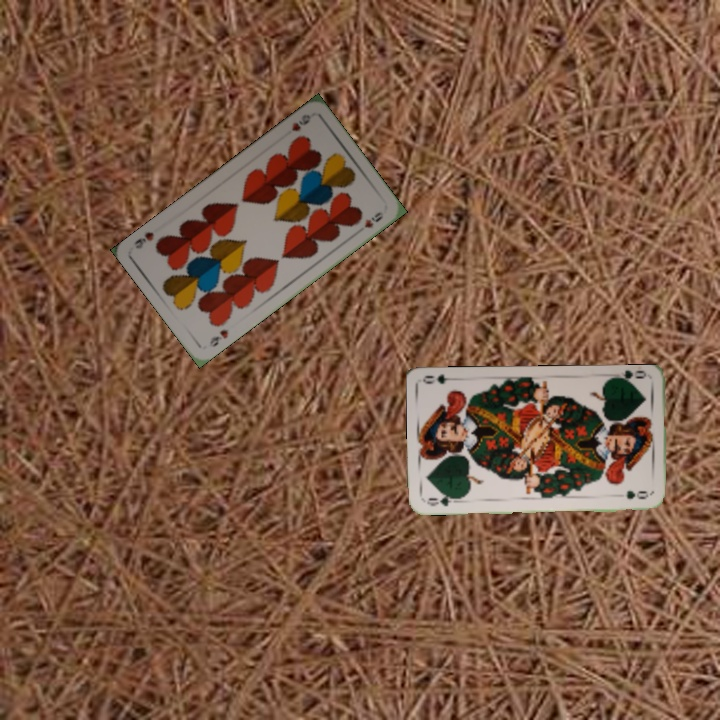GO: (609, 368, 648, 387), (423, 491, 463, 509)
H9: (205, 325, 232, 350), (288, 110, 313, 134)
